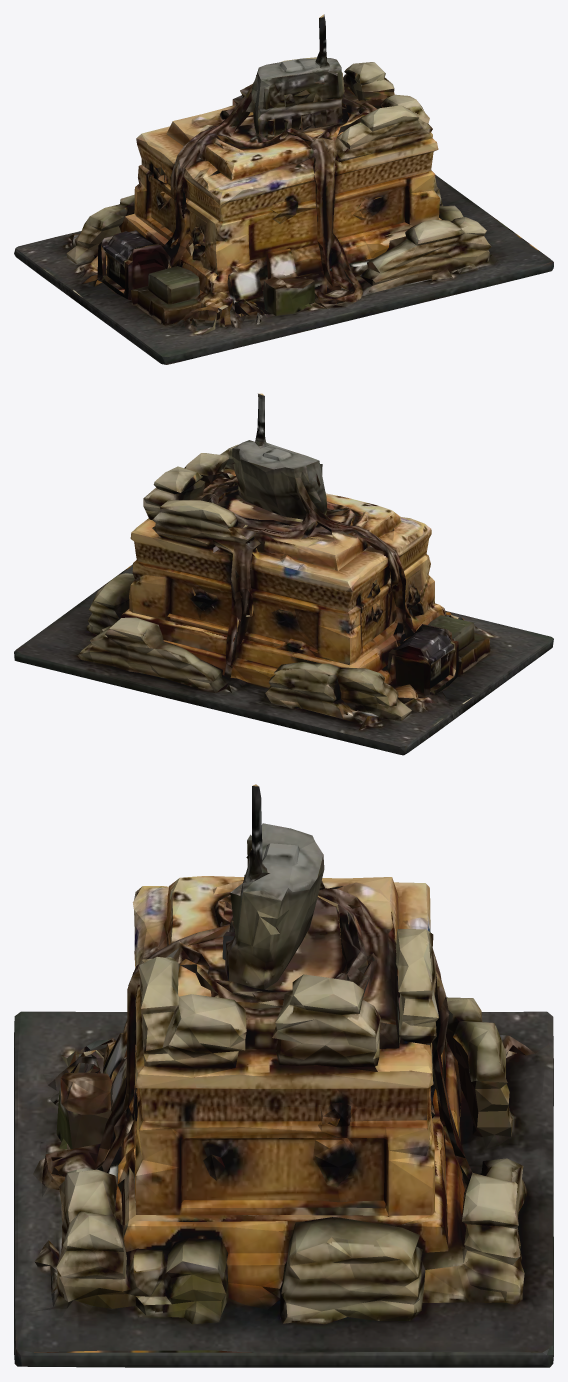
The model's file is temple-altar.glb.
The picture shows the model from 3 angles, top to bottom: view 1: azimuth 30°, elevation 25°; view 2: azimuth 150°, elevation 25°; view 3: azimuth 270°, elevation 25°; orthographic projection. The views are drawn at different scales.
Parts seen in each view (by area): view 1: tmp3rlvhzj0.ply; view 2: tmp3rlvhzj0.ply; view 3: tmp3rlvhzj0.ply.
Boxes of the visible parts, bbox=[...] form: tmp3rlvhzj0.ply: bbox=[14, 14, 553, 364]; tmp3rlvhzj0.ply: bbox=[14, 393, 553, 755]; tmp3rlvhzj0.ply: bbox=[14, 784, 553, 1367].
Size of the model in its own units: 3 by 1.8 by 2.
1 material, 1 textured.
